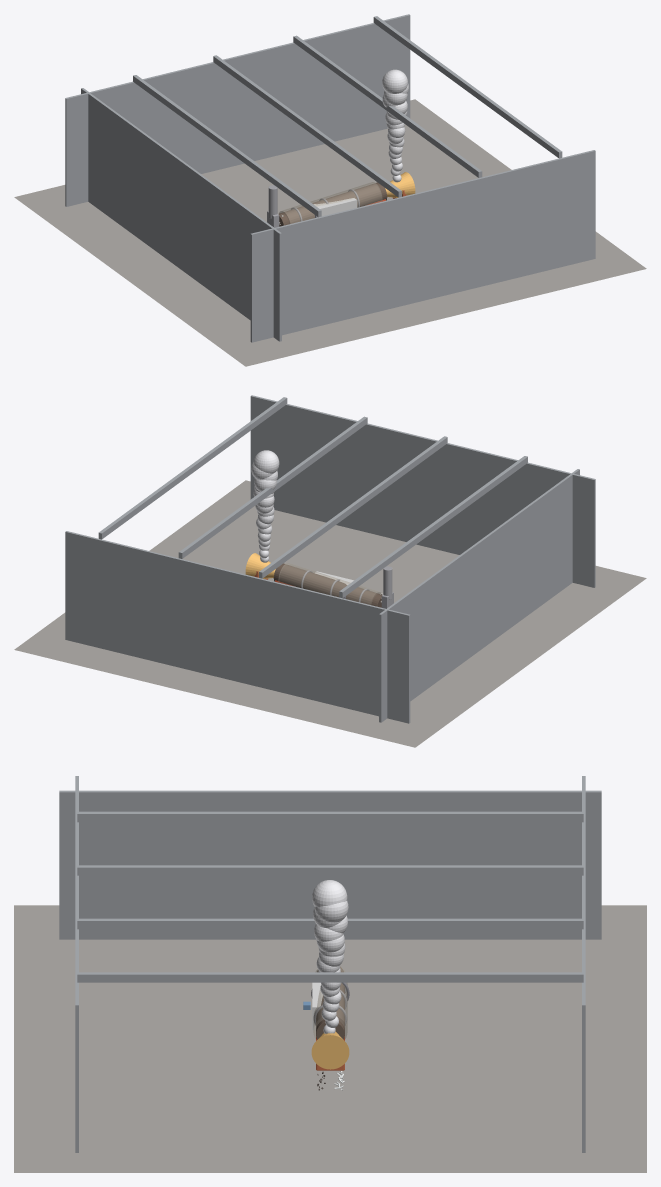
File: Stage3-Reactor.fbx
3 views of the same model, one above another, from view 1: azimuth 30°, elevation 25°; view 2: azimuth 150°, elevation 25°; view 3: azimuth 270°, elevation 25° (orthographic). The views are drawn at different scales.
Parts seen in each view (by area): view 1: S3_Plant_WallLeft, S3_Plant_Floor, S3_Plant_WallRight, S3_Plant_WallBack, S3_Plant_Truss_3, S3_Plant_Truss_1, S3_Plant_Truss_0, S3_Plant_Truss_2, S3_Reactor_Insulation, S3_Kiln_MainTube, S3_OutputGas_17; view 2: S3_Plant_WallRight, S3_Plant_Floor, S3_Plant_WallLeft, S3_Plant_WallBack, S3_Plant_Truss_3, S3_Plant_Truss_1, S3_Plant_Truss_0, S3_Plant_Truss_2, S3_Reactor_Insulation, S3_Kiln_MainTube; view 3: S3_Plant_Floor, S3_Plant_WallBack, S3_Plant_Truss_0, S3_Plant_Truss_2, S3_Plant_Truss_1, S3_Plant_Truss_3, S3_Plant_WallRight, S3_Plant_WallLeft, S3_Kiln_FlameOuter, S3_OutputGas_17, S3_Reactor_Insulation, S3_Kiln_MainTube.
Boxes of the visible parts, box(x1,y1,x2,y2) form: S3_Plant_WallLeft: box(250, 150, 595, 342); S3_Plant_Floor: box(14, 99, 646, 366); S3_Plant_WallRight: box(65, 14, 410, 206); S3_Plant_WallBack: box(81, 88, 281, 341); S3_Plant_Truss_3: box(373, 16, 562, 158); S3_Plant_Truss_1: box(213, 55, 401, 197); S3_Plant_Truss_0: box(133, 75, 321, 217); S3_Plant_Truss_2: box(293, 35, 482, 177); S3_Reactor_Insulation: box(279, 182, 382, 223); S3_Kiln_MainTube: box(278, 182, 387, 226); S3_OutputGas_17: box(382, 69, 407, 93); S3_Plant_WallRight: box(65, 531, 410, 723); S3_Plant_Floor: box(14, 480, 646, 747); S3_Plant_WallLeft: box(250, 395, 595, 587); S3_Plant_WallBack: box(379, 469, 579, 722); S3_Plant_Truss_3: box(98, 397, 287, 539); S3_Plant_Truss_1: box(259, 436, 447, 578); S3_Plant_Truss_0: box(339, 456, 527, 598); S3_Plant_Truss_2: box(178, 416, 367, 558); S3_Reactor_Insulation: box(278, 563, 380, 604); S3_Kiln_MainTube: box(273, 563, 382, 607); S3_Plant_Floor: box(14, 905, 646, 1172); S3_Plant_WallBack: box(59, 790, 601, 939); S3_Plant_Truss_0: box(77, 811, 583, 822); S3_Plant_Truss_2: box(77, 918, 583, 929); S3_Plant_Truss_1: box(77, 865, 583, 875); S3_Plant_Truss_3: box(77, 972, 583, 982); S3_Plant_WallRight: box(582, 776, 585, 1152); S3_Plant_WallLeft: box(75, 776, 78, 1152); S3_Kiln_FlameOuter: box(311, 1031, 349, 1069); S3_OutputGas_17: box(312, 880, 347, 906); S3_Reactor_Insulation: box(313, 966, 347, 1038); S3_Kiln_MainTube: box(316, 967, 344, 1039).
Size of the model in its own units: 35 by 12.23 by 35.
